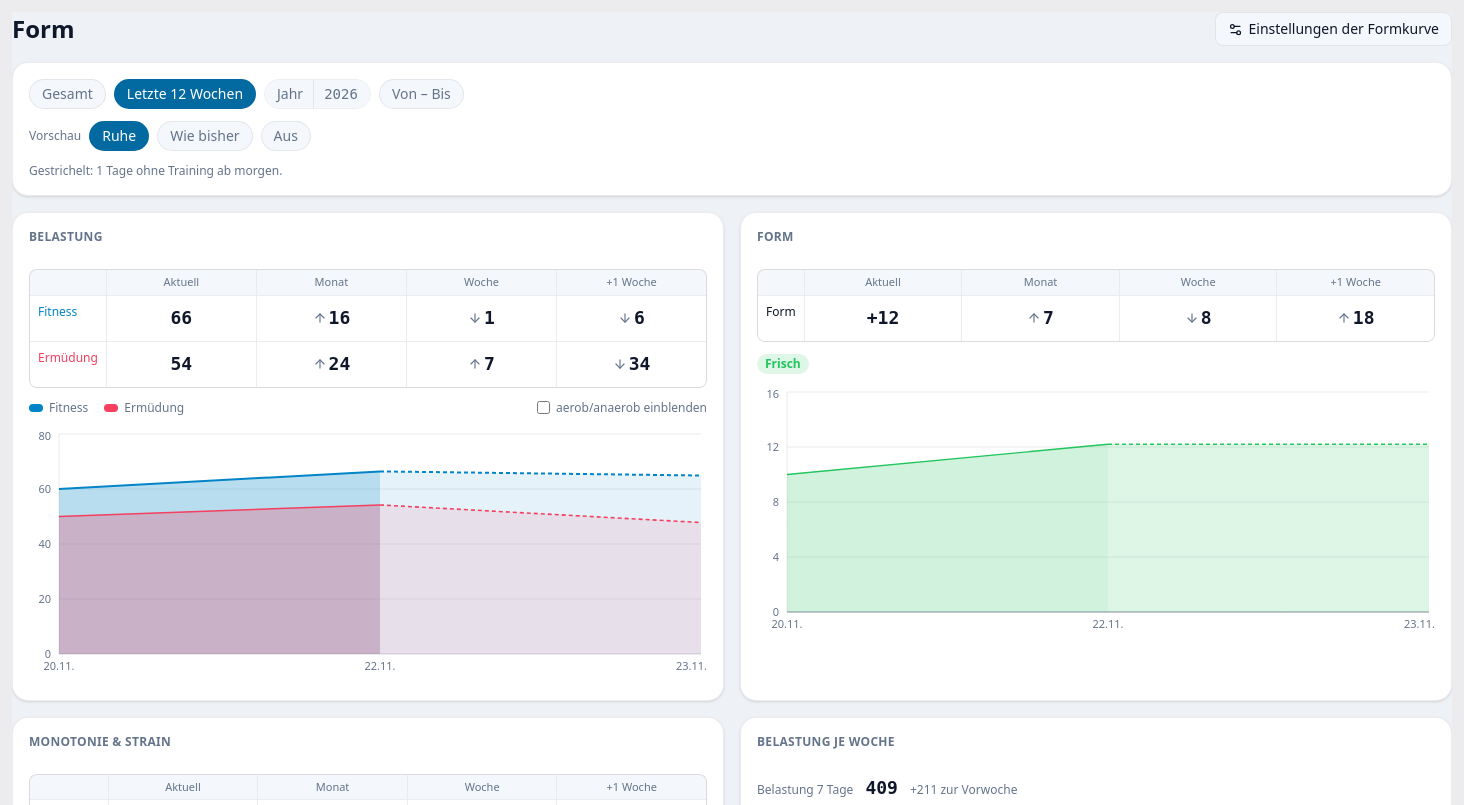
Test: Seite Form › Monotonie und Strain mit Warnung, Zwei-Kurven-Modell zeigt die Teile der Ermüdung
What coordinates should you click on to do the following:
click the checkbox labelled "aerob/anaerob einblenden"
I would click on:
 (544, 408)
Its box is [537,401,550,414].
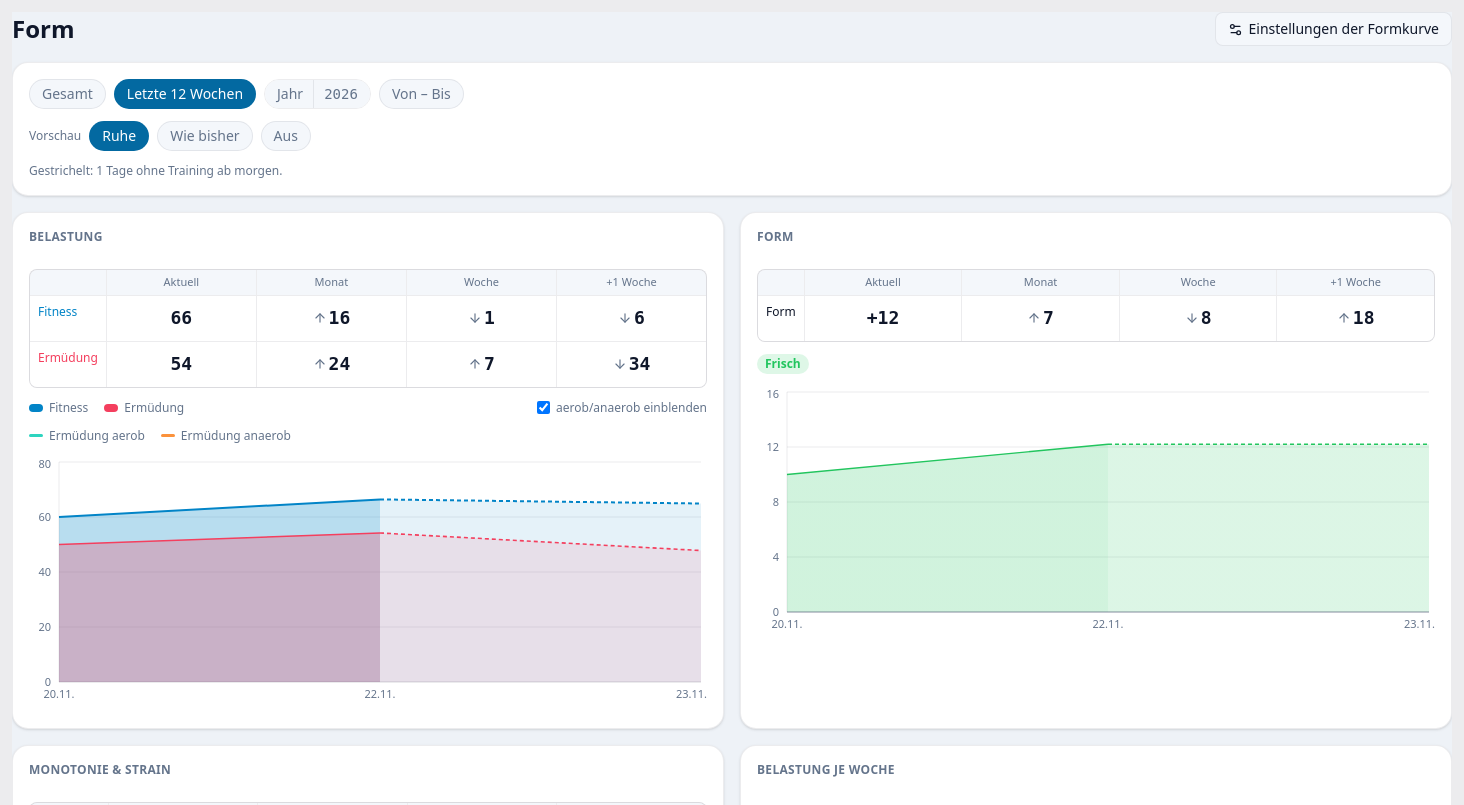
Check: the text "Ermüdung aerob" is shown, box [29,428,145,444]
